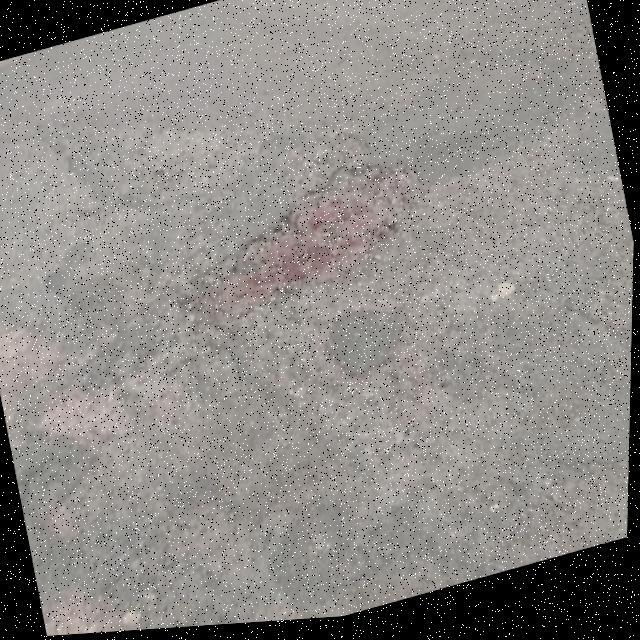pothole: (177, 146, 444, 362)
